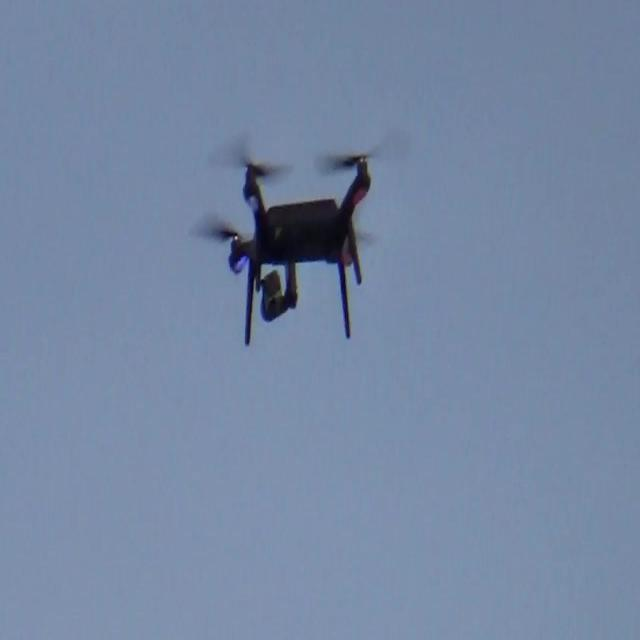UAV: (189, 132, 407, 346)
